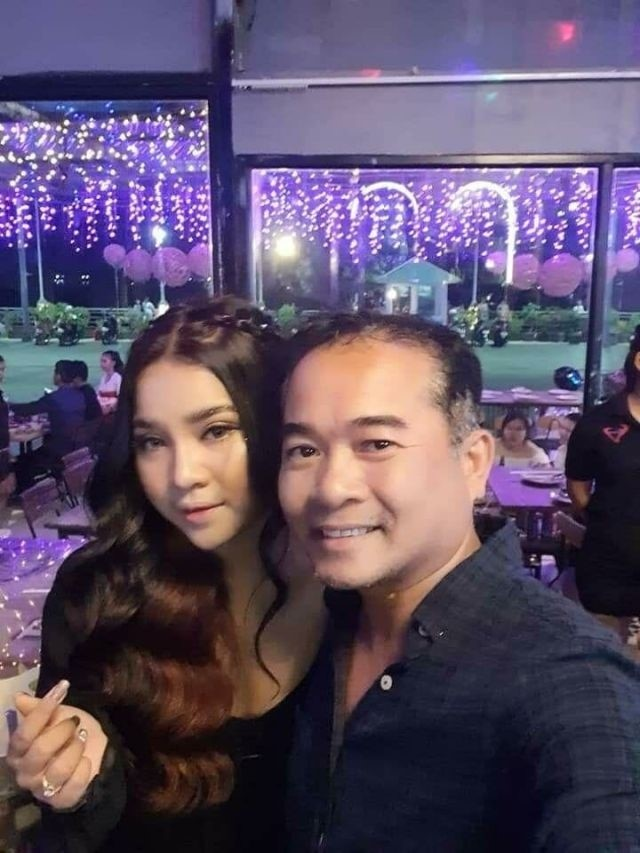face_no_mask: (280, 314, 493, 588), (126, 295, 296, 552)
